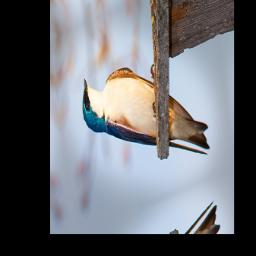Swallow: (78, 33, 212, 203)
